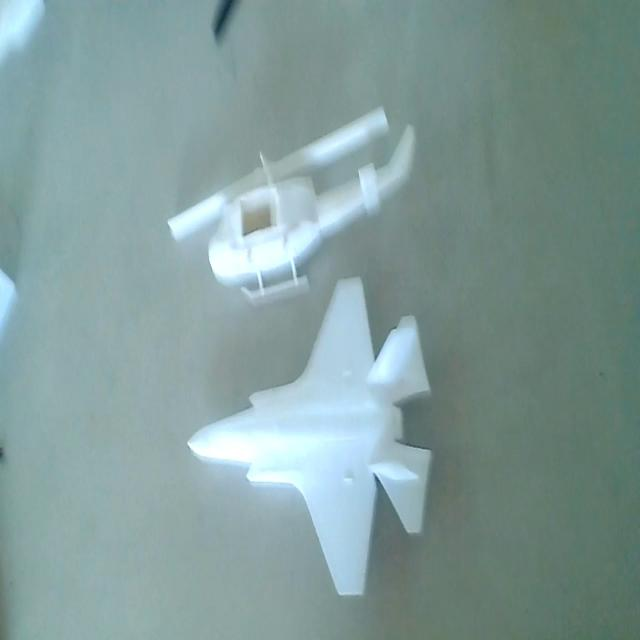Helicopter: (168, 106, 414, 309)
Jet: (188, 274, 434, 608)
